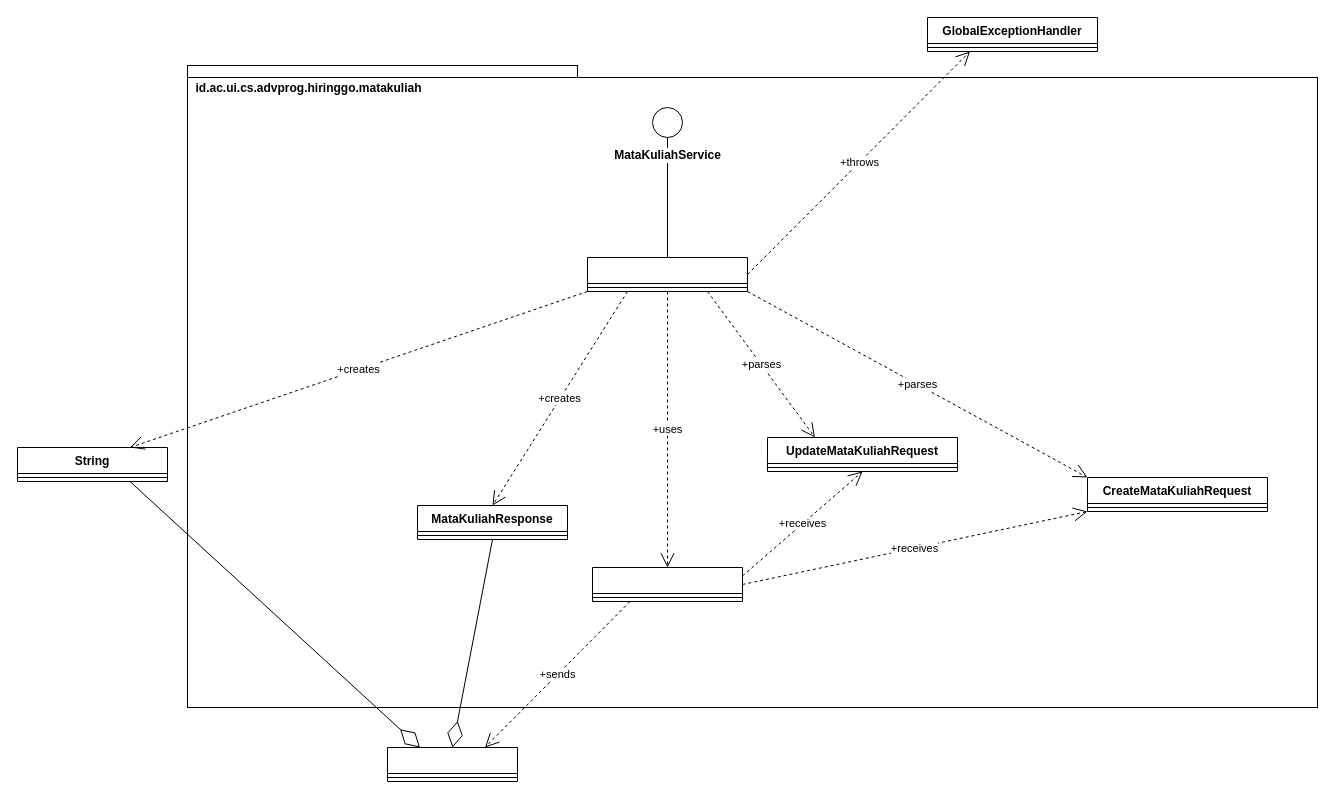
Some shapes in this 1335 by 799 pixel diagram are drawn without their labels. Each missing label, with the centre of its shape:
"MataKuliahController" goes at (667,584).
"MataKuliahServiceImpl" goes at (667,274).
"WebResponse" goes at (452,764).
